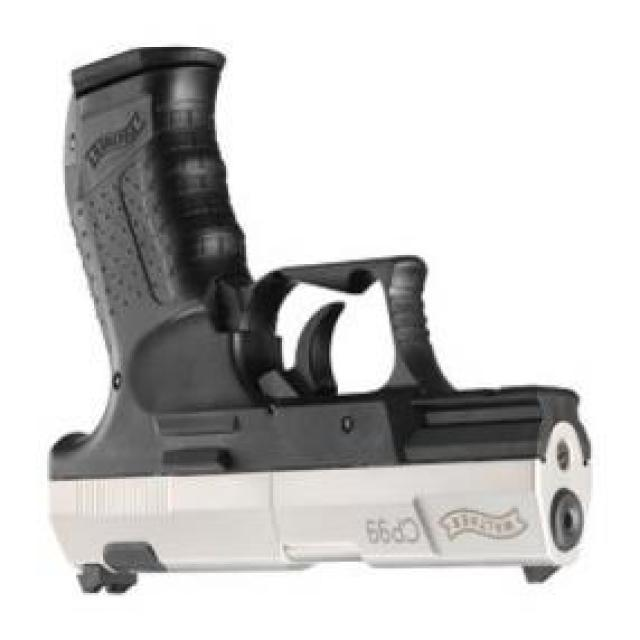pistol: (45, 44, 593, 595)
